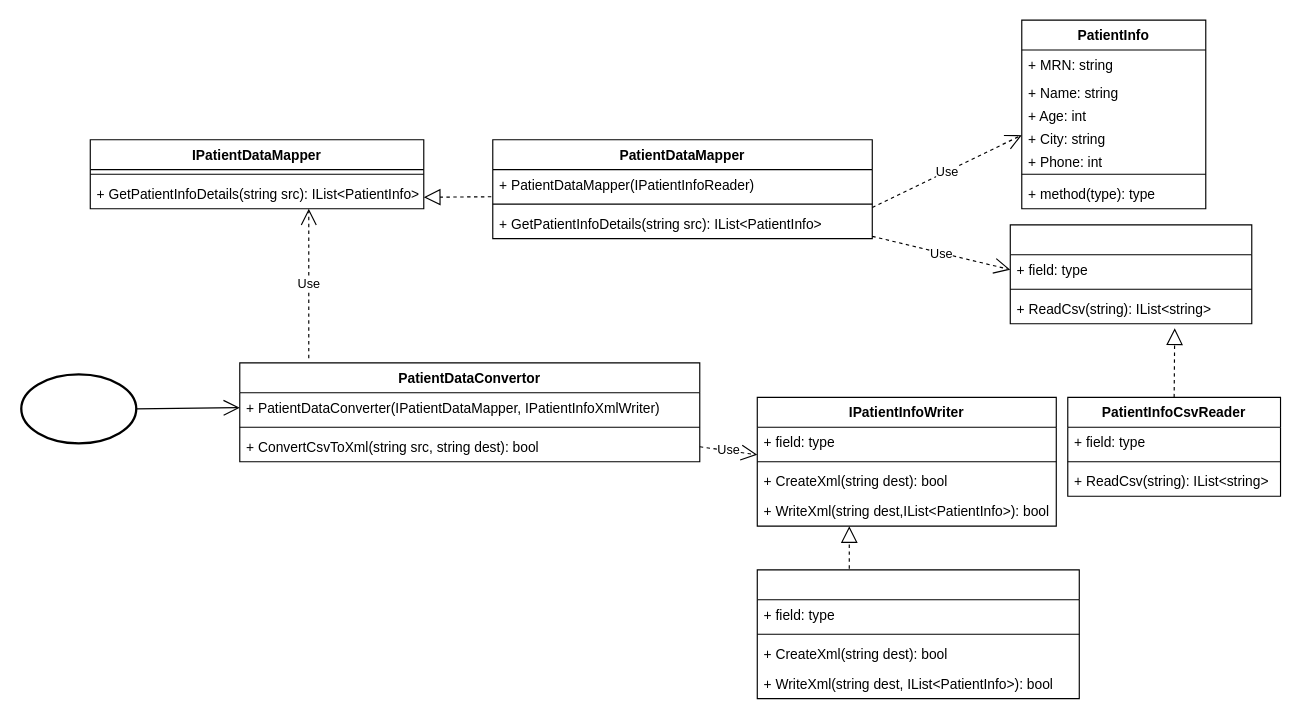
Image size: 1301x722. Some labels were removed from this diagram. Here are the shapes that lost their labels. From the top down, the box of each, then its label:
(1009, 224, 1252, 324): IPatientInfoReader
(20, 373, 137, 444): Public API
(756, 569, 1079, 699): PatientInfoXmlWriter
